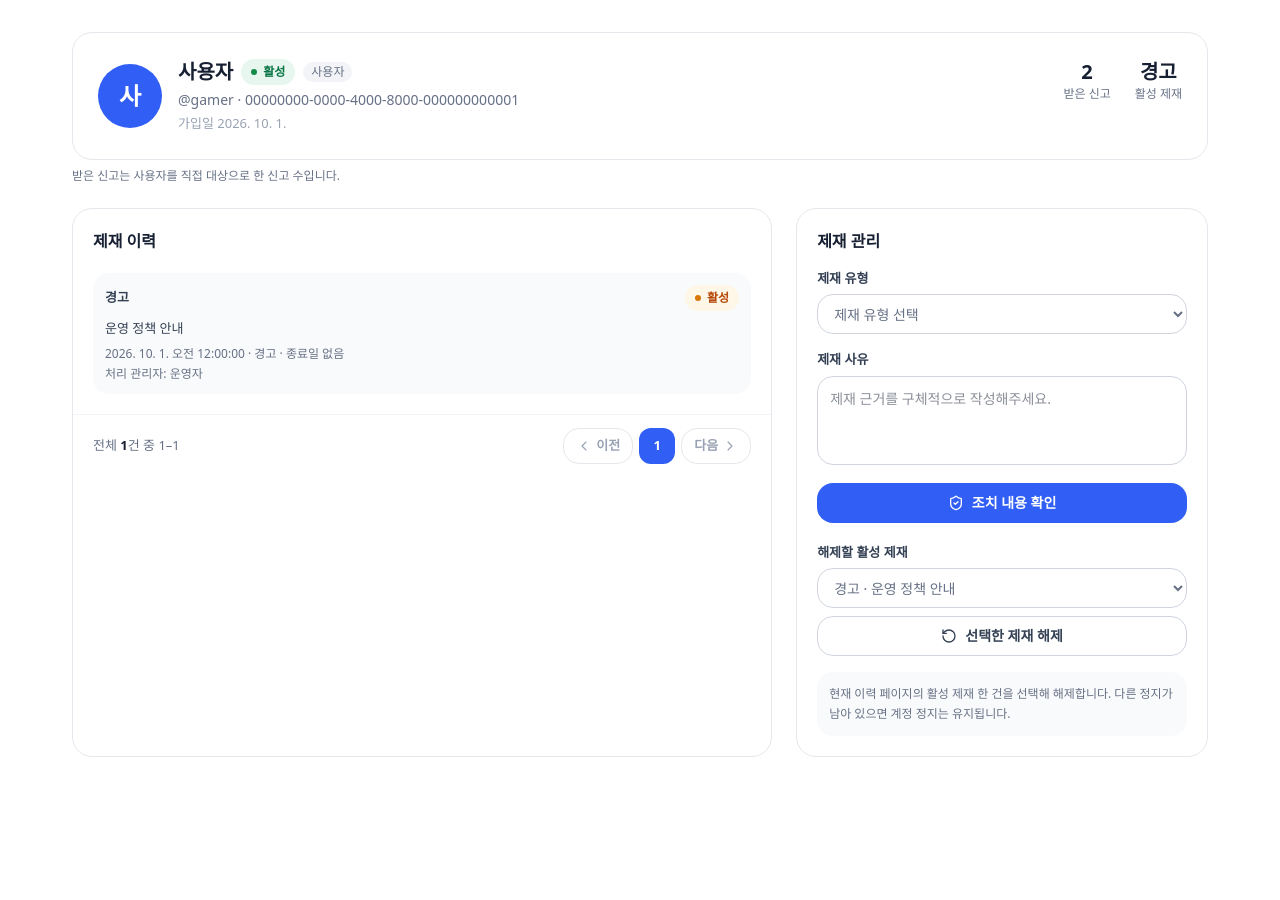
Test: 관리자 사용자 상세 실제 제재 흐름 › 제재 거절 시 기존 상태와 입력을 보존하고 오류를 표시한다
Select "경고" in the dropdown labelled "제재 유형" at (1002, 314), box [817, 294, 1187, 334]
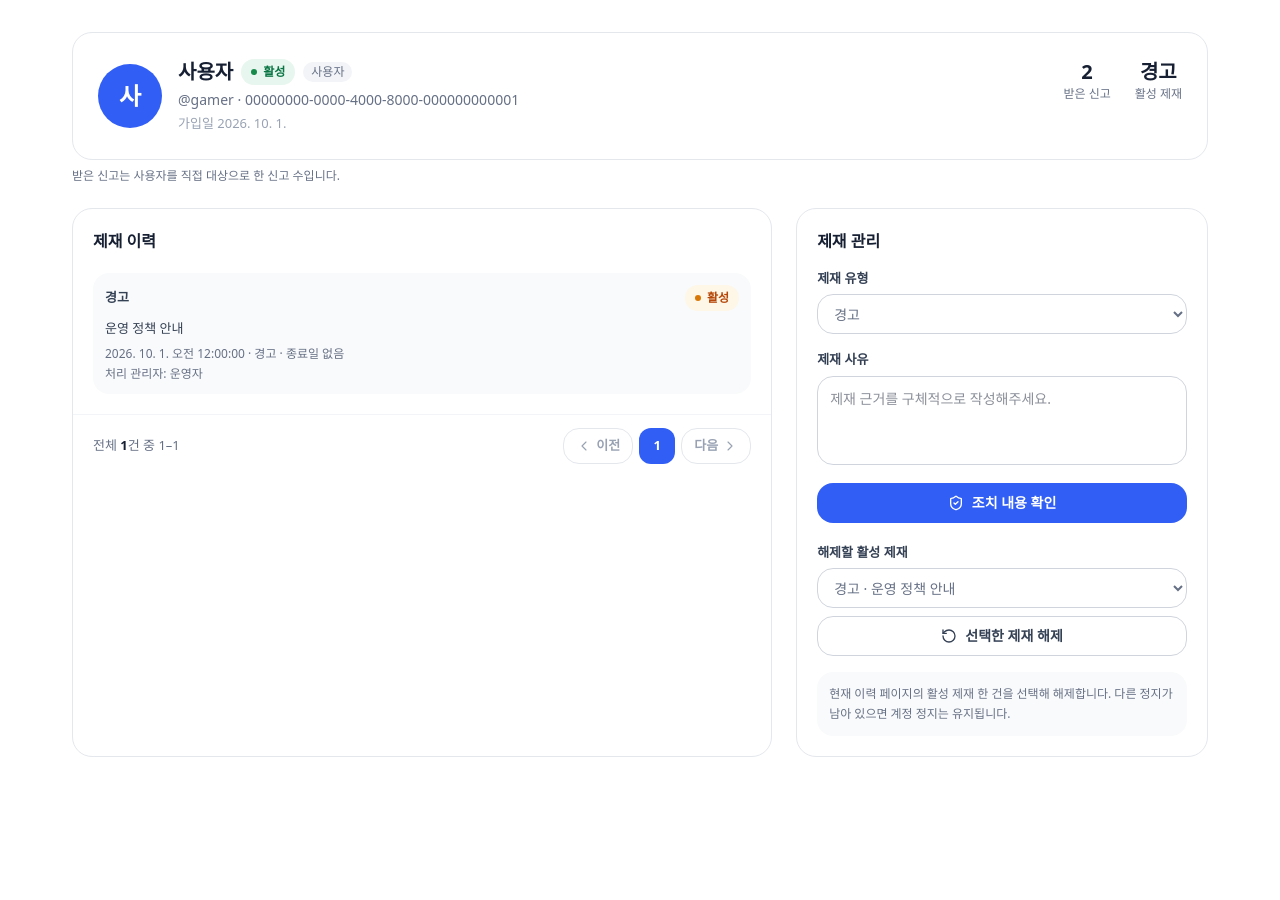
Type "  실제 제재 근거  " into the text box labelled "제재 사유".
click(1002, 420); type("  실제 제재 근거  ")  # box [817, 376, 1187, 464]
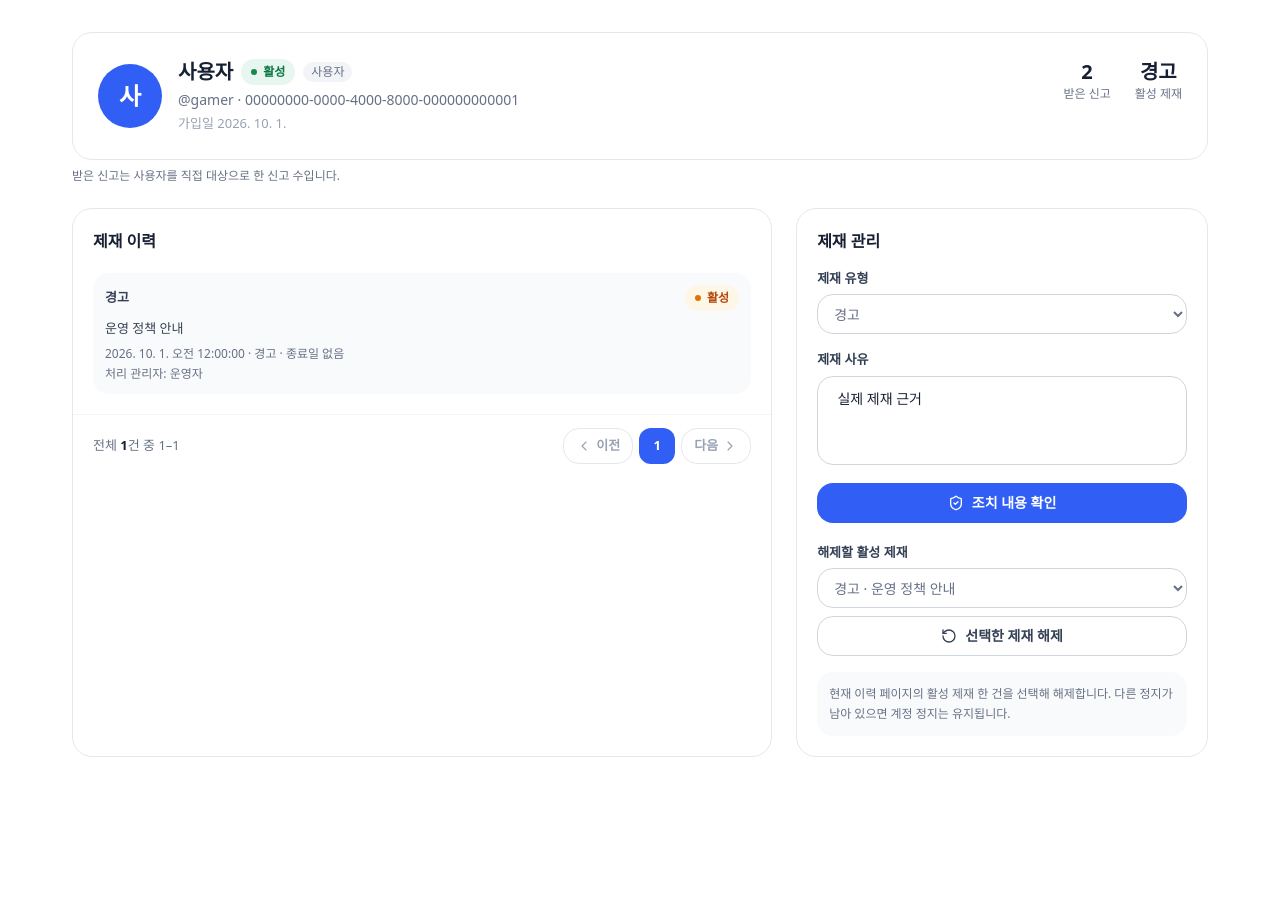
Click the button "조치 내용 확인".
click(1002, 502)  # box [817, 482, 1187, 522]
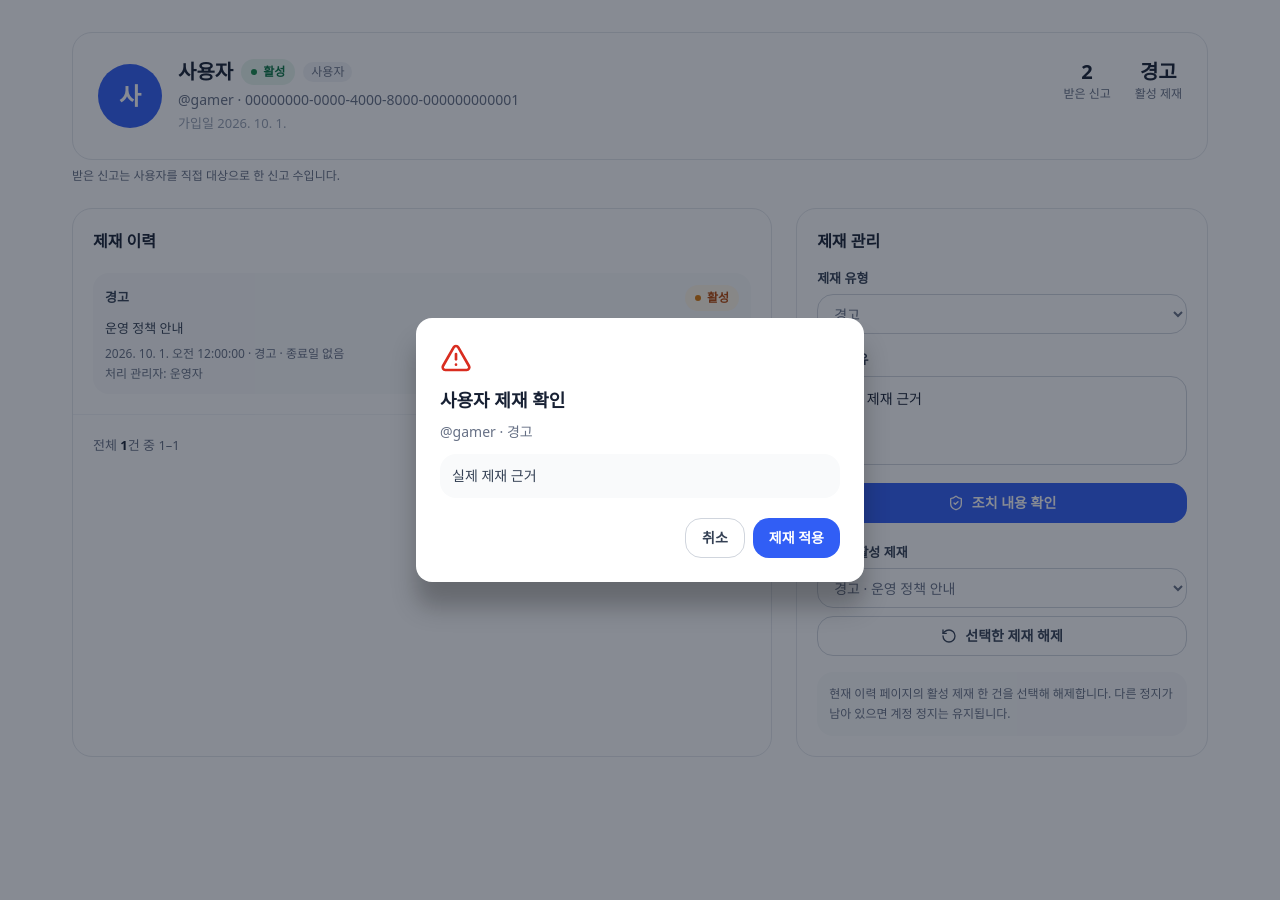
Click the button "제재 적용".
click(796, 538)  # box [753, 518, 840, 558]
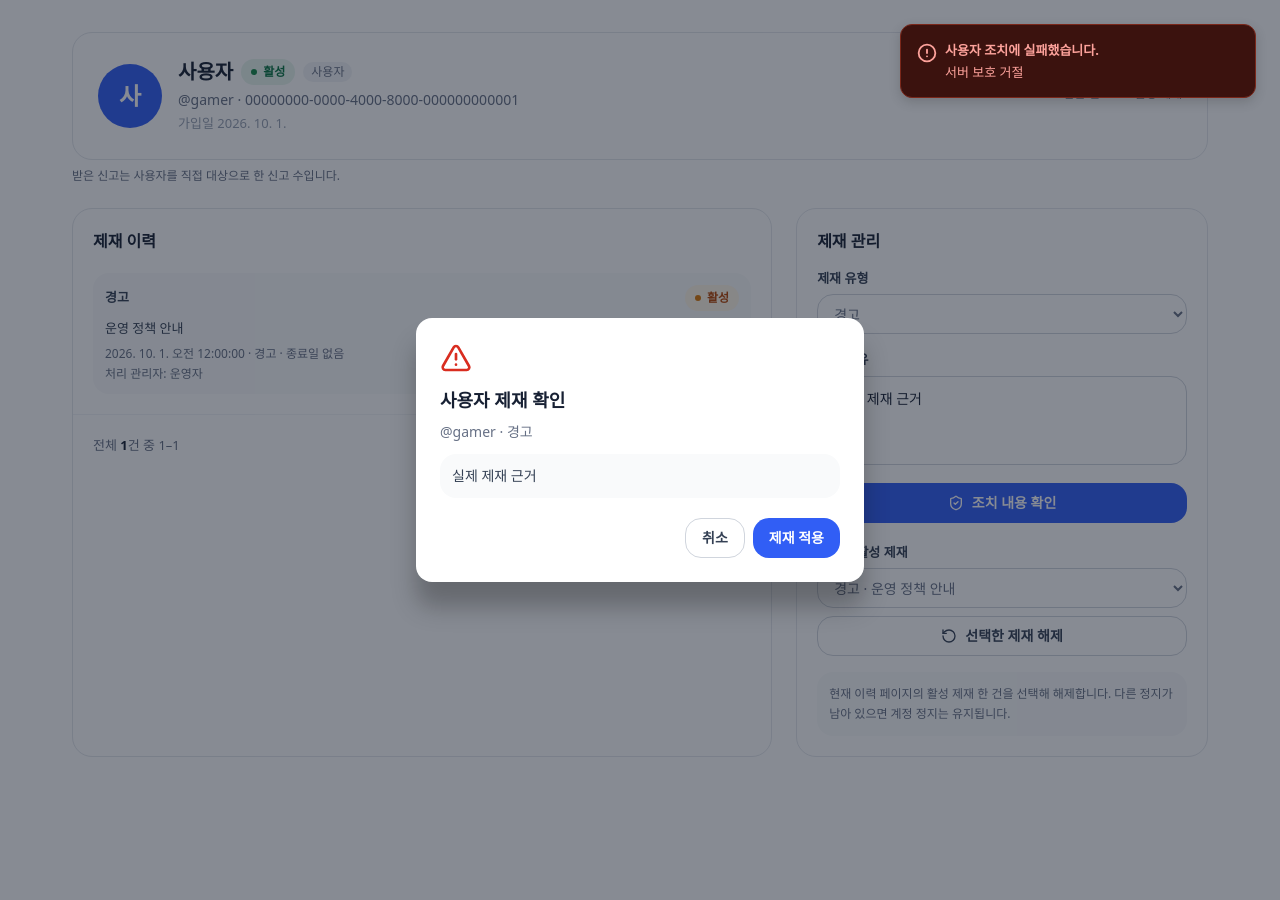
Check: the text "활성" is shown 2 times, box [241, 59, 295, 85]; [685, 284, 739, 310]
Check: the text "서버 보호 거절" is shown, box [945, 62, 1024, 80]
